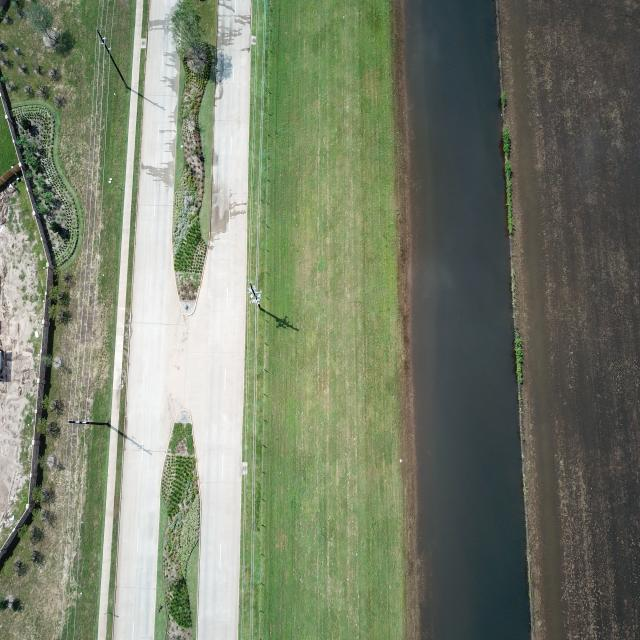fire: (404, 0, 531, 639)
